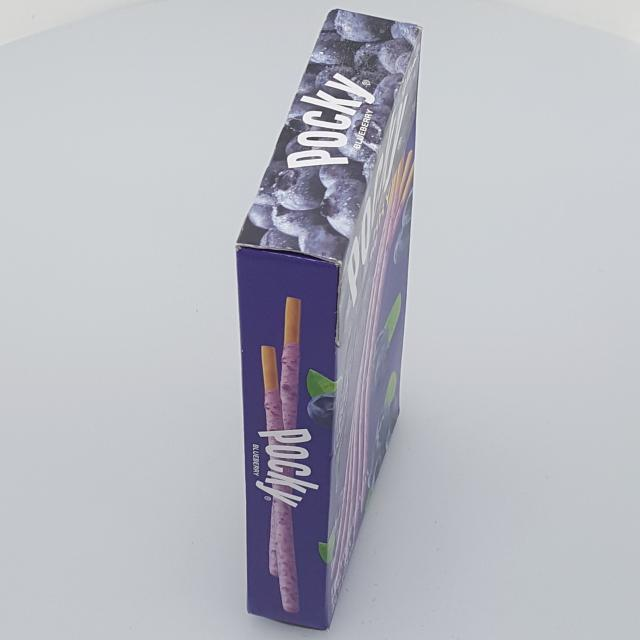-41G: (236, 10, 423, 632)
